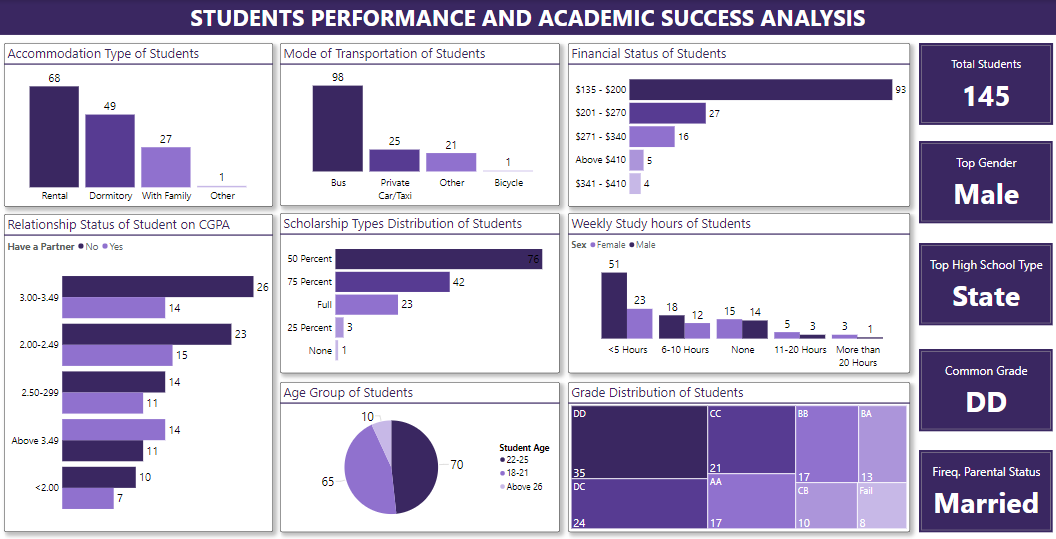

This screenshot's page, from the dashboard's own definition file:
{"tool":"powerbi","page":{"name":"Page 1","canvas":[2650,1350],"ordinal":0},"visuals":[{"type":"textbox","box":[0,0,2650.2,87.2],"z":0},{"type":"columnChart","title":"Accommodation Type of Students","fields":{"Category":["Table2.Accommodation Type"],"Y":["CountNonNull(Table2.STUDENT ID)"]},"box":[19.9,107.1,670,408.5],"z":1000},{"type":"columnChart","title":"Mode of Transportation of Students","fields":{"Y":["CountNonNull(Table2.STUDENT ID)"],"Category":["Table2.Mode of Transportation "]},"box":[707.4,107.1,697.4,406],"z":2000},{"type":"barChart","title":"Financial Status of Students","fields":{"Category":["Table2.Total Salary "],"Y":["CountNonNull(Table2.STUDENT ID)"]},"box":[1424.7,107.1,851.8,408.5],"z":3000},{"type":"clusteredBarChart","title":"Relationship Status of Student on CGPA","fields":{"Category":["Table2.CGPA in last semester (/4.00)"],"Series":["Table2.Do you have a partner"],"Y":["CountNonNull(Table2.STUDENT ID)"]},"box":[19.9,533,670,792.1],"z":4000},{"type":"barChart","title":"Scholarship Types Distribution of Students","fields":{"Category":["Table2.Scholarship Type"],"Y":["CountNonNull(Table2.STUDENT ID)"]},"box":[707.4,530.5,697.4,398.5],"z":5000},{"type":"clusteredColumnChart","title":"Weekly Study hours of Students","fields":{"Category":["Table2.Weekly Study Hours"],"Y":["CountNonNull(Table2.STUDENT ID)"],"Series":["Table2.Sex"]},"box":[1424.7,530.5,851.8,398.5],"z":6000},{"type":"pieChart","title":"Age Group of Students","fields":{"Y":["CountNonNull(Table2.STUDENT ID)"],"Category":["Table2.Student Age"]},"box":[707.4,951.5,697.4,373.6],"z":7000},{"type":"treemap","title":"Grade Distribution of Students","fields":{"Group":["Table2.Grade"],"Values":["CountNonNull(Table2.STUDENT ID)"]},"box":[1424.7,951.5,851.8,373.6],"z":8000},{"type":"cardVisual","fields":{"Data":["CountNonNull(Table2.STUDENT ID)"]},"box":[2299,107.1,333.8,204.2],"z":9000},{"type":"cardVisual","fields":{"Data":["Min(Table2.Sex)"]},"box":[2299.5,350.5,333.4,205.2],"z":10000},{"type":"cardVisual","fields":{"Data":["Min(Table2.Graduated High-School Type)"]},"box":[2299.5,604.1,333.4,205.2],"z":11000},{"type":"cardVisual","fields":{"Data":["Min(Table2.Grade)"]},"box":[2299.5,869.1,333.4,205.2],"z":12000},{"type":"cardVisual","fields":{"Data":["Min(Table2.Parental Status)"]},"box":[2299.5,1119.8,333.4,205.2],"z":13000}]}

Visuals, with their boxes in screenshot pixels (x1, y1, x2, y2), scaled from the page's 2650x1350 canvas onto the 1056x539 screenshot:
textbox: detection(0, 0, 1055, 35)
"Accommodation Type of Students" columnChart: detection(8, 43, 275, 206)
"Mode of Transportation of Students" columnChart: detection(282, 43, 560, 205)
"Financial Status of Students" barChart: detection(568, 43, 907, 206)
"Relationship Status of Student on CGPA" clusteredBarChart: detection(8, 213, 275, 529)
"Scholarship Types Distribution of Students" barChart: detection(282, 212, 560, 371)
"Weekly Study hours of Students" clusteredColumnChart: detection(568, 212, 907, 371)
"Age Group of Students" pieChart: detection(282, 380, 560, 529)
"Grade Distribution of Students" treemap: detection(568, 380, 907, 529)
cardVisual - CountNonNull(Table2.STUDENT ID): detection(916, 43, 1049, 124)
cardVisual - Min(Table2.Sex): detection(916, 140, 1049, 222)
cardVisual - Min(Table2.Graduated High-School Type): detection(916, 241, 1049, 323)
cardVisual - Min(Table2.Grade): detection(916, 347, 1049, 429)
cardVisual - Min(Table2.Parental Status): detection(916, 447, 1049, 529)
